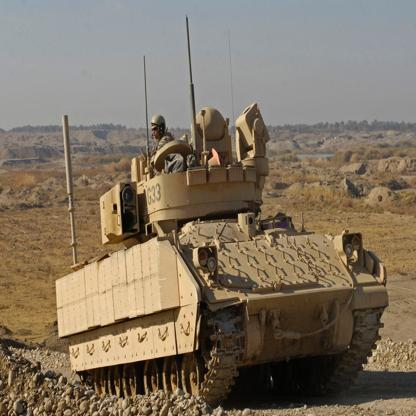Tank: (51, 102, 393, 410)
